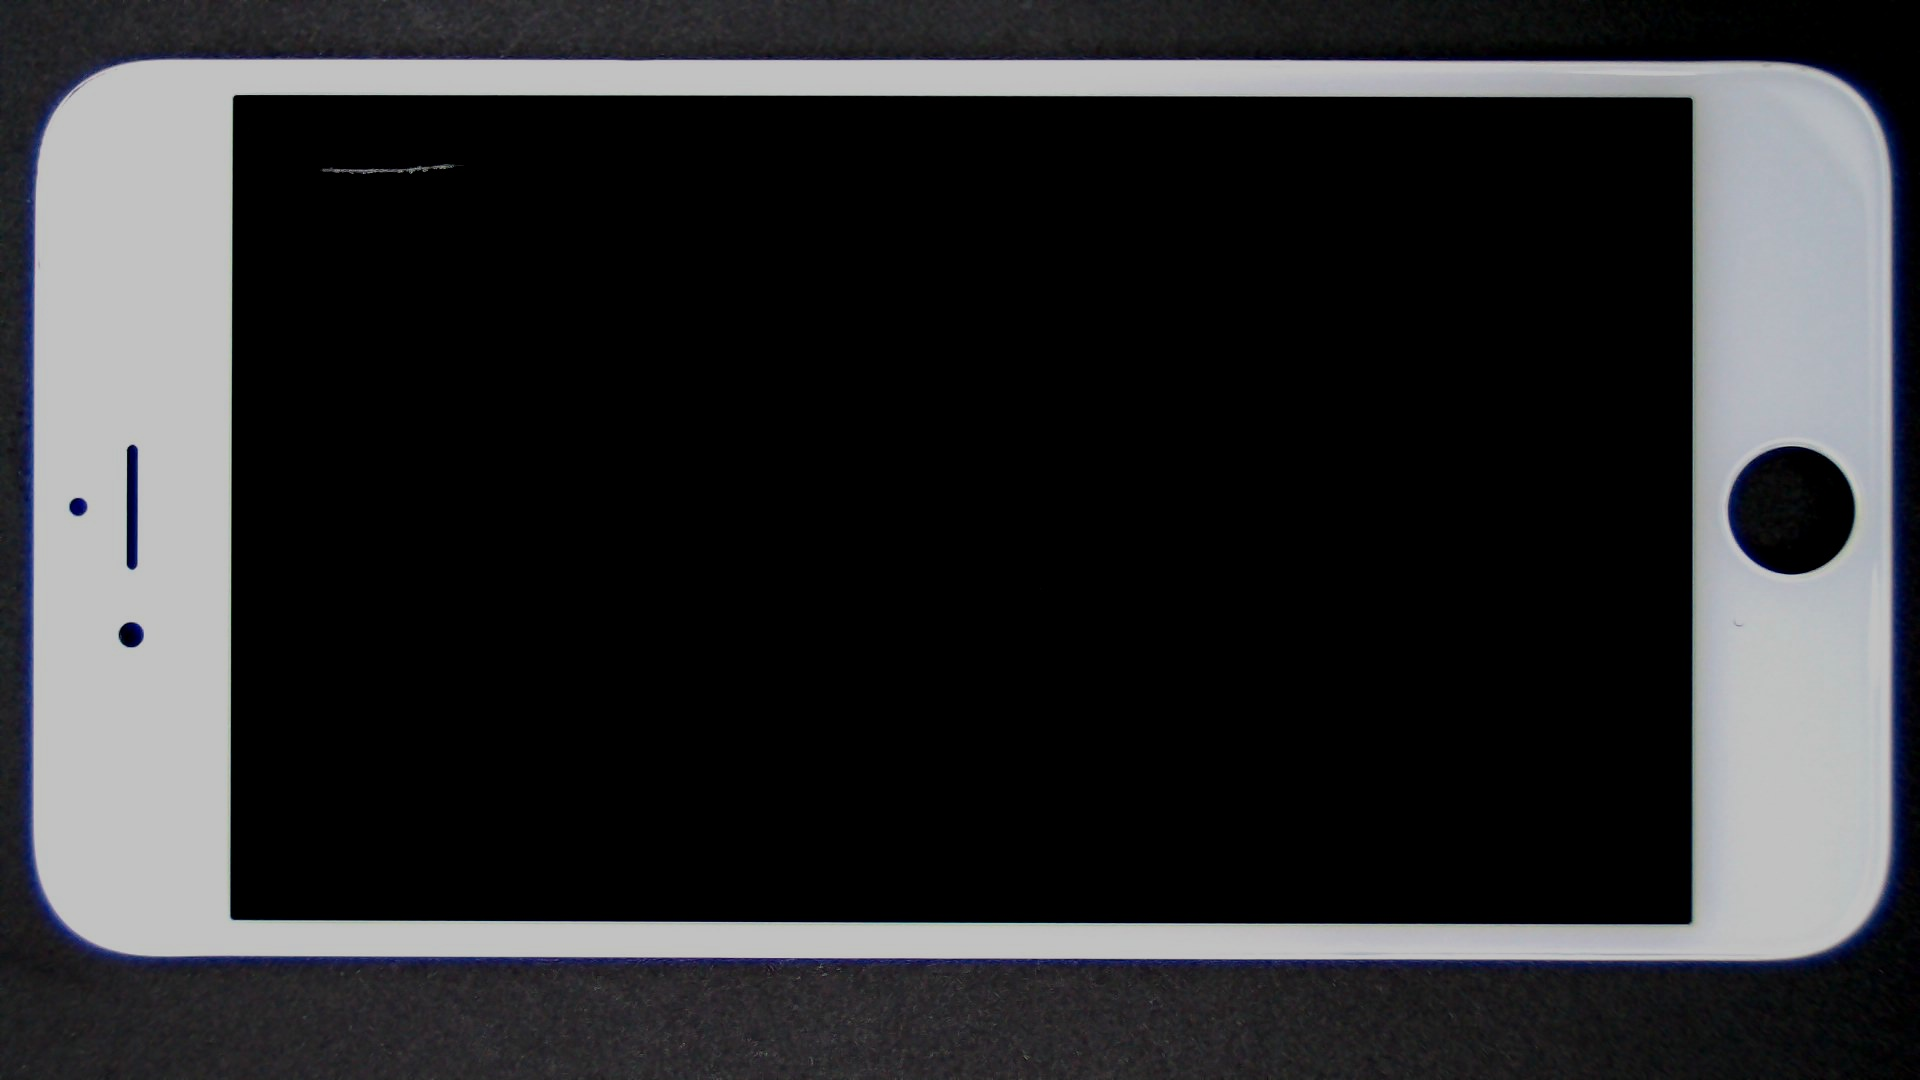oil: (225, 80, 673, 245)
